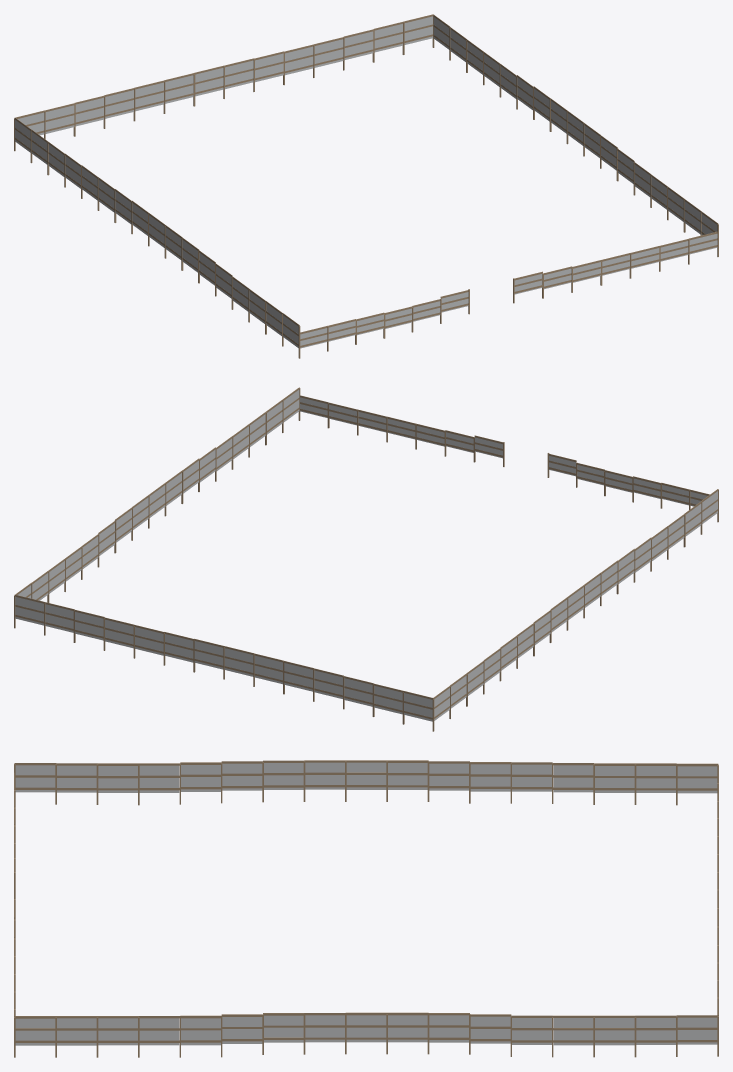
Rendered from yard_fence.glb.
3 renders of one model, top to bottom at view 1: azimuth 30°, elevation 25°; view 2: azimuth 150°, elevation 25°; view 3: azimuth 270°, elevation 25°, orthographic. The views are drawn at different scales.
Visible parts, largest first — view 1: fence.north.infill, fence.west.infill, fence.east.infill, fence.north, fence.west, fence.east, fence.south_east.infill, fence.south_west.infill, fence.south_east, fence.south_west; view 2: fence.north.infill, fence.west.infill, fence.east.infill, fence.north, fence.west, fence.east, fence.south_east.infill, fence.south_east, fence.south_west.infill, fence.south_west; view 3: fence.east.infill, fence.west.infill, fence.east, fence.west, fence.north.
Boxes of the visible parts, x1=… form: fence.north.infill: x1=17, y1=16, x2=432, y2=135; fence.west.infill: x1=15, y1=120, x2=298, y2=347; fence.east.infill: x1=433, y1=17, x2=717, y2=235; fence.north: x1=14, y1=14, x2=434, y2=150; fence.west: x1=14, y1=117, x2=300, y2=358; fence.east: x1=433, y1=14, x2=718, y2=235; fence.south_east.infill: x1=514, y1=233, x2=717, y2=294; fence.south_west.infill: x1=300, y1=292, x2=468, y2=348; fence.south_east: x1=513, y1=231, x2=718, y2=303; fence.south_west: x1=299, y1=289, x2=469, y2=358; fence.north.infill: x1=15, y1=597, x2=432, y2=721; fence.west.infill: x1=434, y1=491, x2=717, y2=720; fence.east.infill: x1=17, y1=390, x2=299, y2=600; fence.north: x1=14, y1=594, x2=434, y2=731; fence.west: x1=433, y1=489, x2=718, y2=728; fence.east: x1=14, y1=387, x2=300, y2=626; fence.south_east.infill: x1=300, y1=397, x2=502, y2=458; fence.south_east: x1=299, y1=395, x2=504, y2=466; fence.south_west.infill: x1=549, y1=456, x2=707, y2=506; fence.south_west: x1=547, y1=453, x2=718, y2=521; fence.east.infill: x1=15, y1=1015, x2=717, y2=1045; fence.west.infill: x1=15, y1=762, x2=717, y2=793; fence.east: x1=14, y1=1012, x2=718, y2=1057; fence.west: x1=14, y1=760, x2=717, y2=805; fence.north: x1=717, y1=764, x2=718, y2=1015.
Size of the model in its own units: 33.89 by 2.84 by 39.89.
